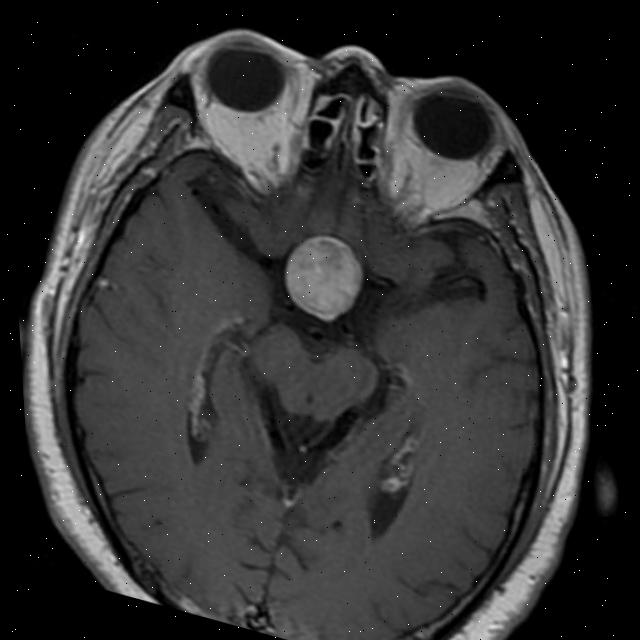Pituitary: (271, 225, 373, 330)
